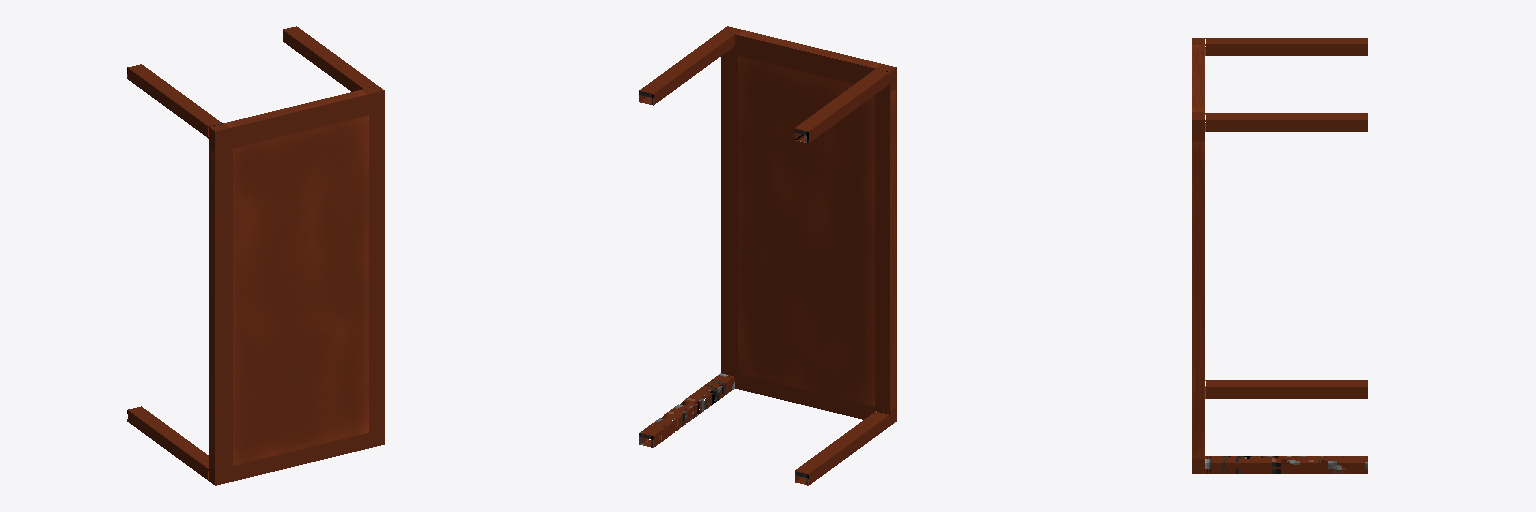
3 renders of one model, left to right at view 1: azimuth 30°, elevation 25°; view 2: azimuth 150°, elevation 25°; view 3: azimuth 270°, elevation 25°, orthographic.
Visible parts, largest first — view 1: Cube; view 2: Cube; view 3: Cube.
Boxes of the visible parts, box(x1,y1,x2,y2) form: Cube: box(127, 26, 384, 485); Cube: box(639, 26, 896, 485); Cube: box(1192, 38, 1367, 473).
Bounding box in the file's own units: 3 × 6 × 2.7.
Materials: 1 (1 with a texture image).